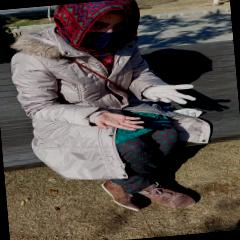gloved: (149, 82, 197, 107)
not-gloved: (96, 110, 146, 134)
